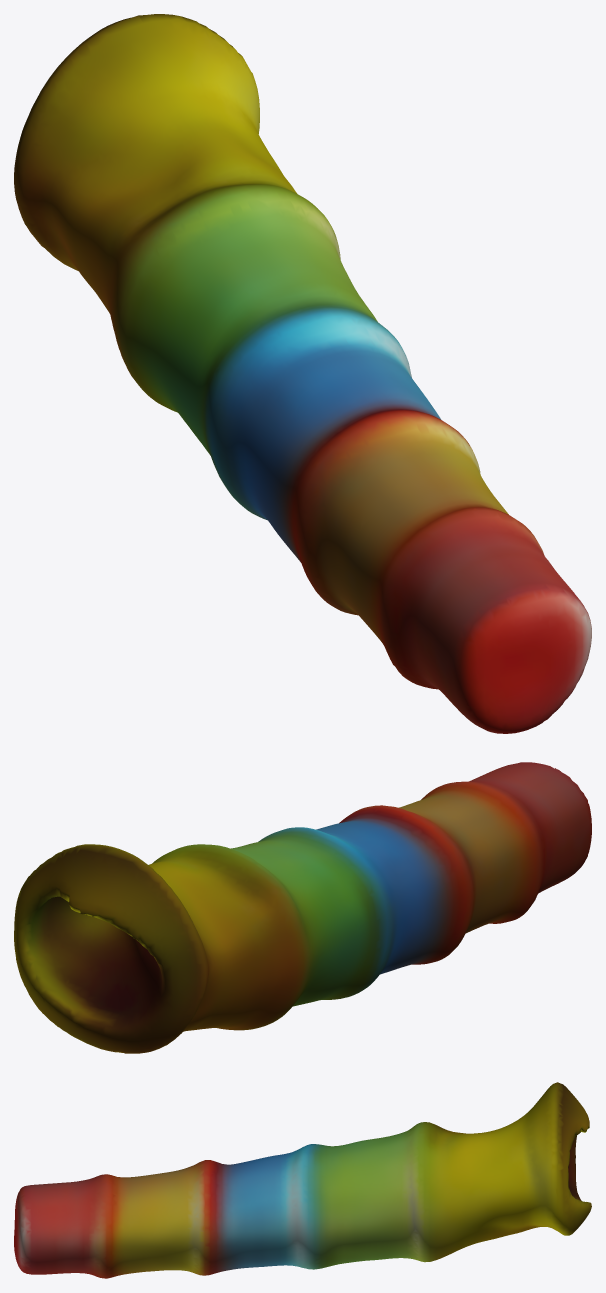
File: stucking_cups.glb
The picture shows the model from 3 angles, top to bottom: view 1: azimuth 30°, elevation 25°; view 2: azimuth 150°, elevation 25°; view 3: azimuth 270°, elevation 25°; orthographic projection. The views are drawn at different scales.
Bounding box in the file's own units: 0.3049 × 0.3951 × 0.9993.
